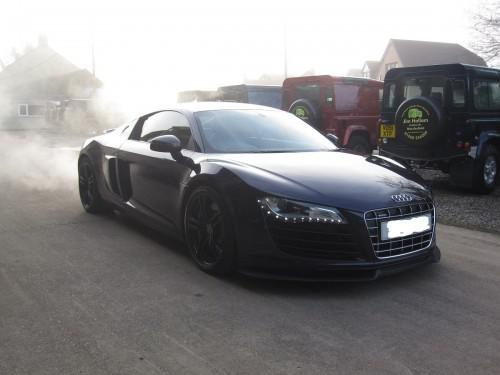Car: (60, 92, 457, 306)
